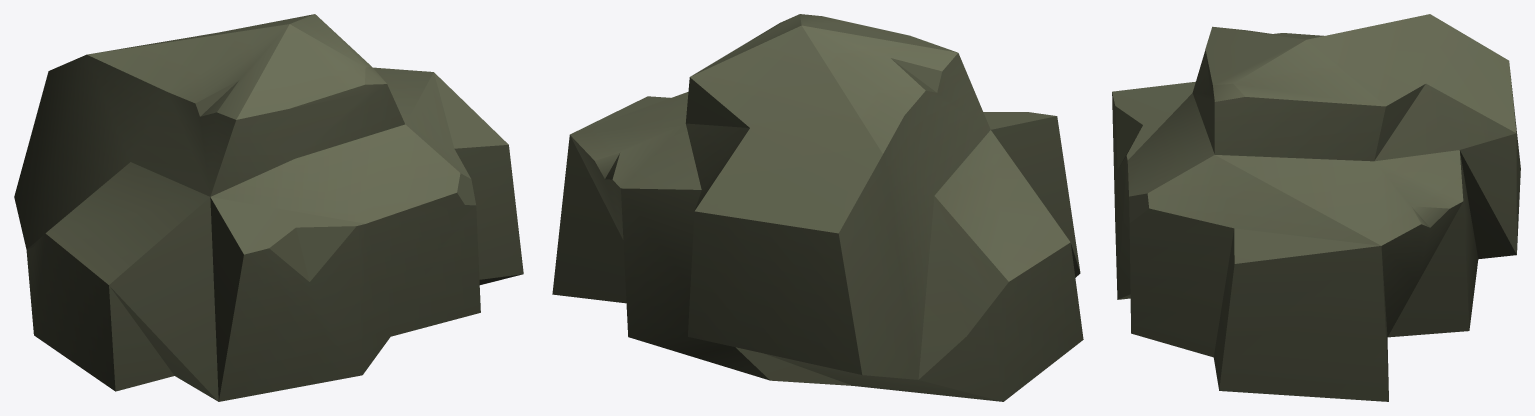
File: RockFace3.fbx
3 renders of one model, left to right at view 1: azimuth 30°, elevation 25°; view 2: azimuth 150°, elevation 25°; view 3: azimuth 270°, elevation 25°, orthographic. The views are drawn at different scales.
Visible parts, largest first — view 1: Cube.007; view 2: Cube.007; view 3: Cube.007.
Part boxes in pixels (x1,y1,x2,y2): Cube.007: (14, 14, 523, 401); Cube.007: (552, 14, 1083, 401); Cube.007: (1112, 14, 1520, 401).
Size of the model in its own units: 339 by 223 by 291.
